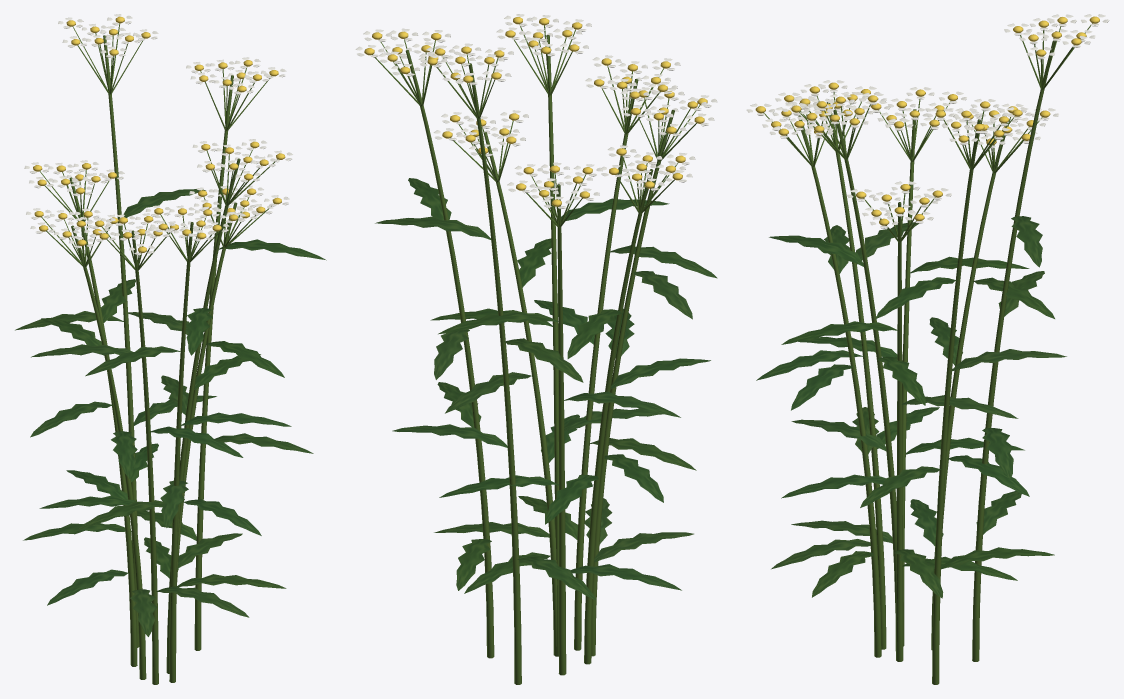
The model's file is n-yarrow.glb.
3 renders of one model, left to right at view 1: azimuth 30°, elevation 25°; view 2: azimuth 150°, elevation 25°; view 3: azimuth 270°, elevation 25°, orthographic. The views are drawn at different scales.
Parts seen in each view (by area): view 1: Foliage, Stems, Flowers; view 2: Stems, Foliage, Flowers; view 3: Foliage, Stems, Flowers.
Part boxes in pixels (bbox=[...]): Foliage: bbox=[15, 189, 326, 636]; Stems: bbox=[39, 23, 277, 684]; Flowers: bbox=[24, 14, 292, 255]; Stems: bbox=[372, 24, 700, 684]; Foliage: bbox=[375, 178, 717, 600]; Flowers: bbox=[355, 14, 716, 209]; Foliage: bbox=[756, 216, 1066, 598]; Stems: bbox=[763, 23, 1092, 684]; Flowers: bbox=[746, 14, 1109, 228].
Size of the model in its own units: 0.304 by 0.62 by 0.3198.
3 materials, 1 textured.
